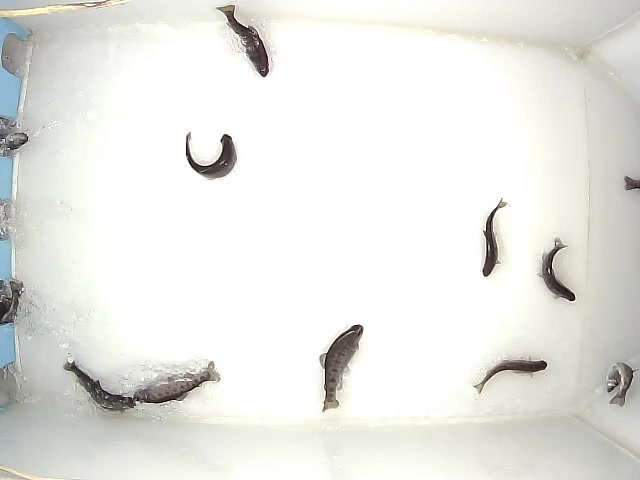fish: (61, 350, 137, 416), (215, 3, 272, 78), (318, 323, 365, 413), (133, 360, 221, 405), (472, 356, 548, 395), (535, 236, 577, 303), (185, 129, 239, 181), (481, 197, 510, 278), (605, 360, 633, 408)
